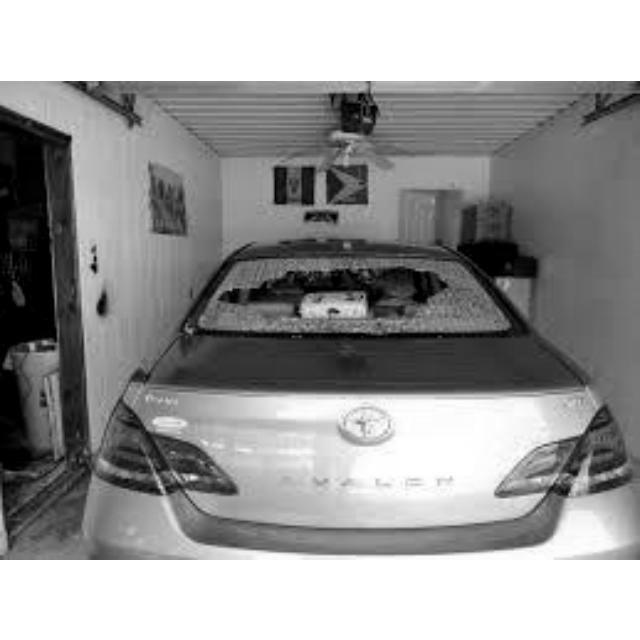Rear-windscreen-Damage: (205, 241, 481, 354)
